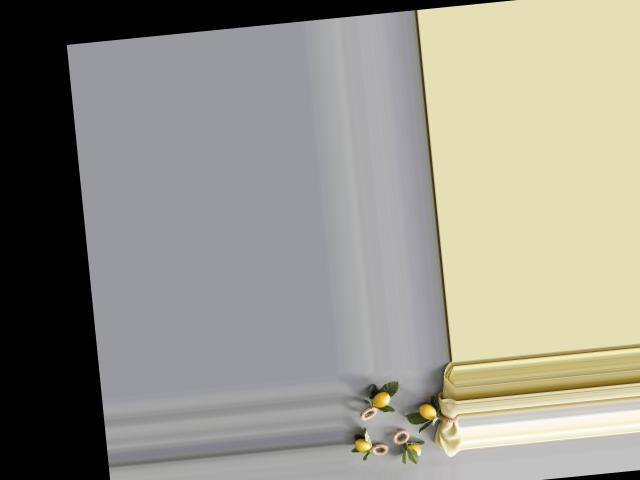lemon: (348, 433, 374, 453)
